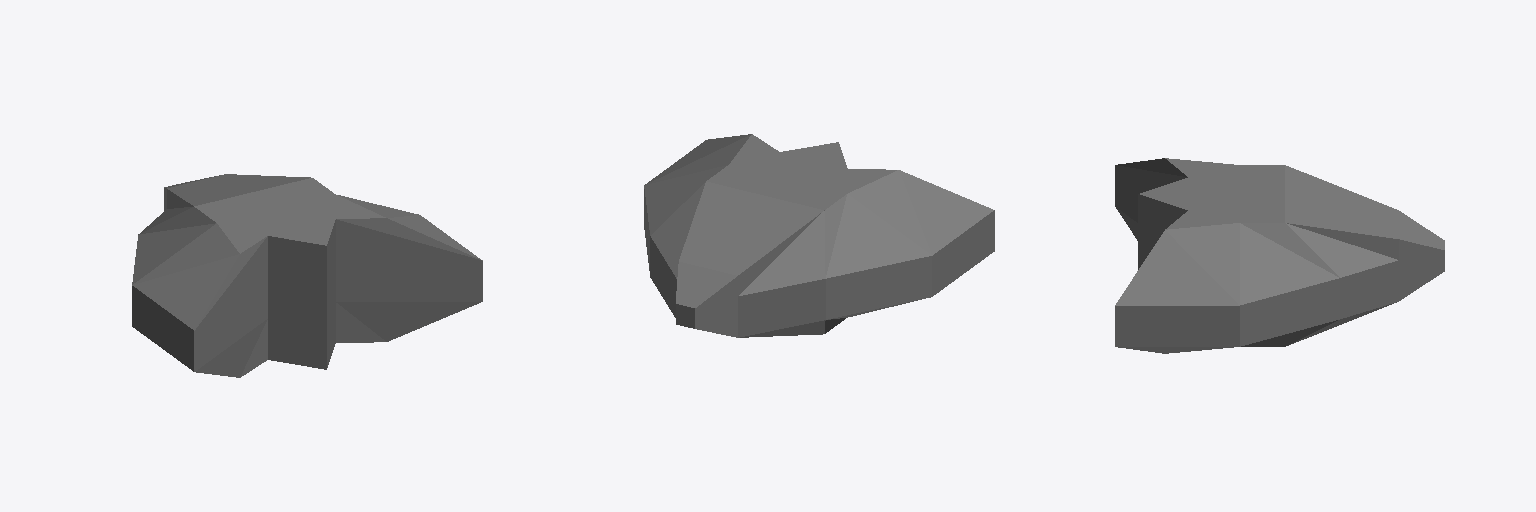
Rendered from Bomber.obj.
The picture shows the model from 3 angles: view 1: azimuth 30°, elevation 25°; view 2: azimuth 150°, elevation 25°; view 3: azimuth 270°, elevation 25°; orthographic projection.
Parts seen in each view (by area): view 1: Cube.001; view 2: Cube.001; view 3: Cube.001.
Boxes of the visible parts, x1,y1,x2,y2 form: Cube.001: [132, 174, 482, 377]; Cube.001: [644, 134, 994, 337]; Cube.001: [1115, 158, 1444, 353].
Bounding box in the file's own units: 1.22 × 0.5 × 1.21.